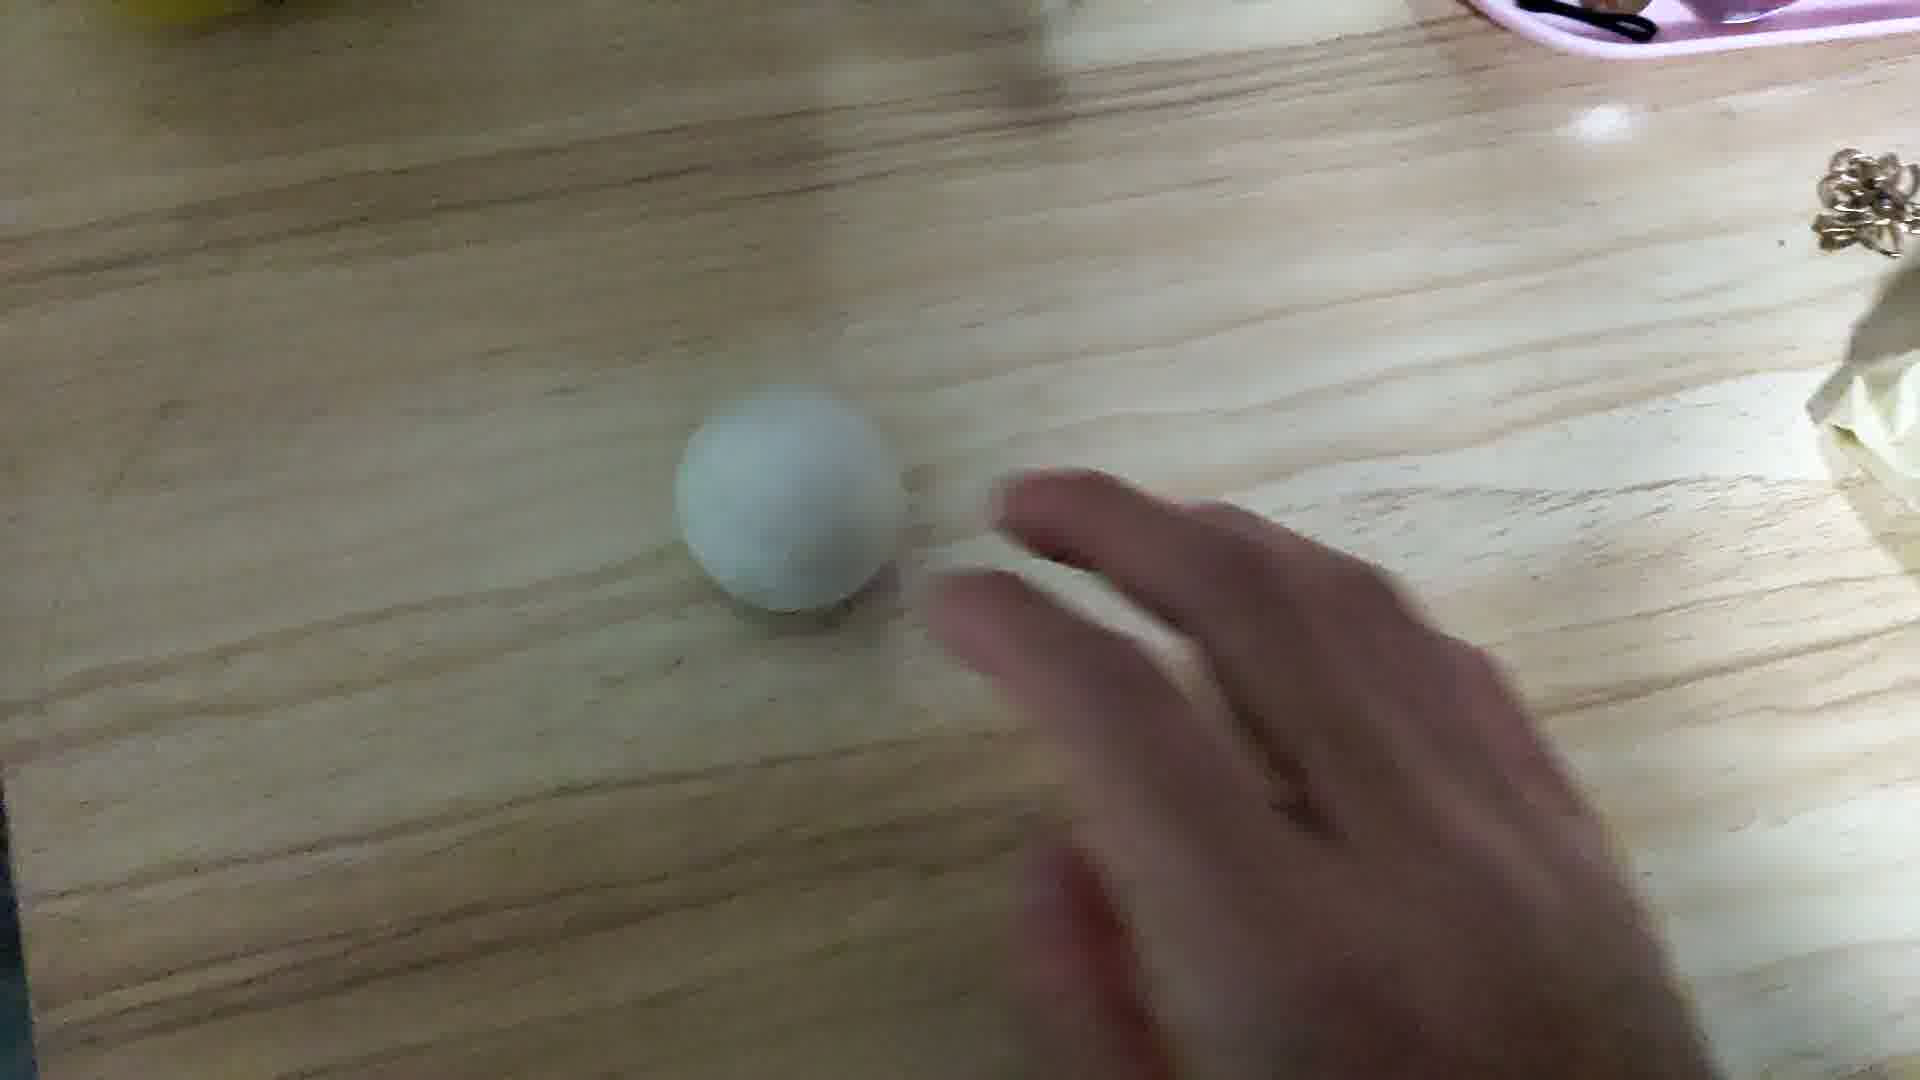Ball: (676, 386, 906, 616)
